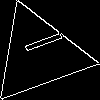I: (14, 29, 64, 59)
